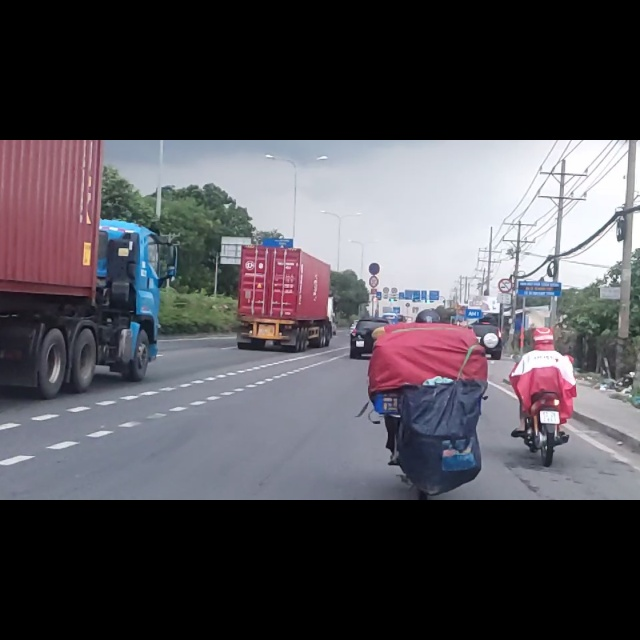bien_cam: (498, 247, 512, 271), (368, 216, 381, 239)
